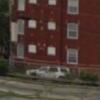cars: (27, 66, 72, 82)
